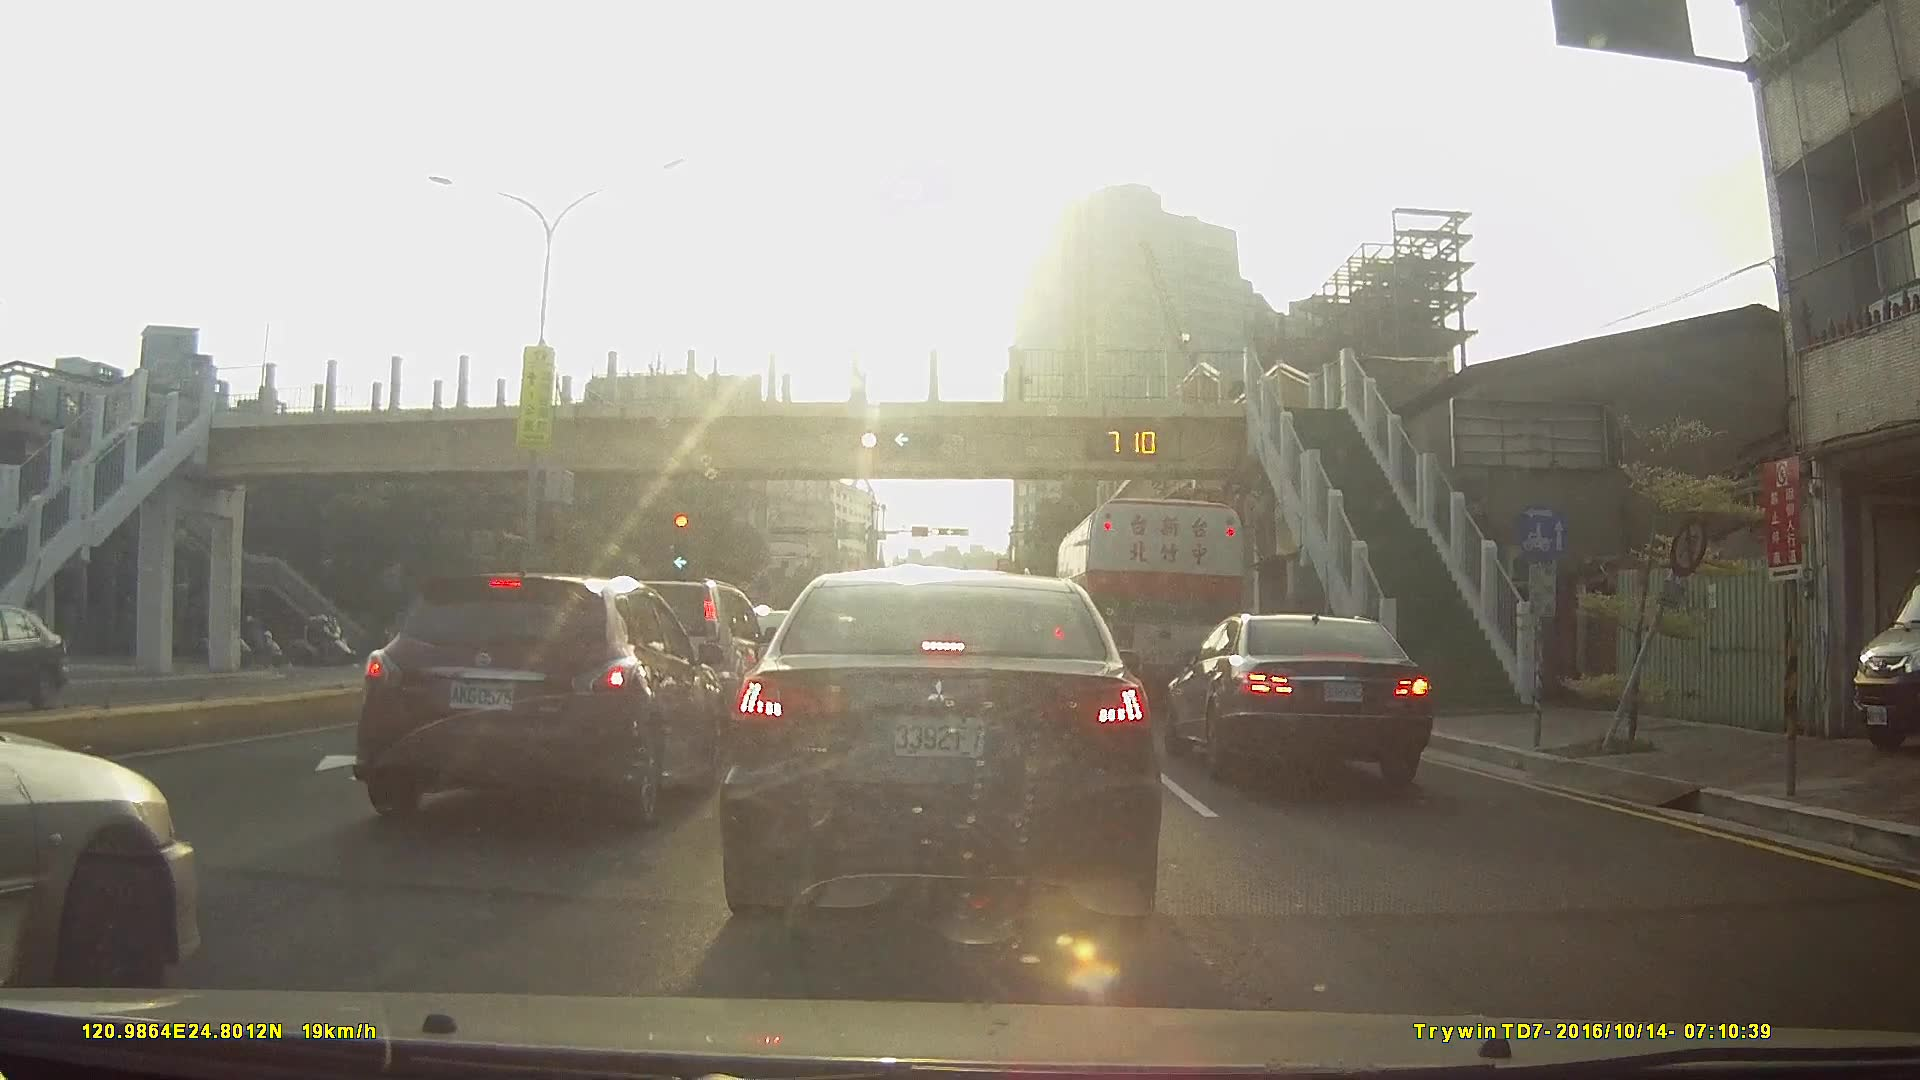pedestrian: (1006, 353, 1031, 404)
rider: (298, 611, 362, 665), (230, 613, 287, 667)
vehicle: (713, 563, 1163, 929), (354, 571, 729, 830), (0, 725, 200, 1020), (1159, 610, 1435, 783), (1054, 496, 1245, 711), (0, 603, 53, 714), (0, 606, 53, 693)
